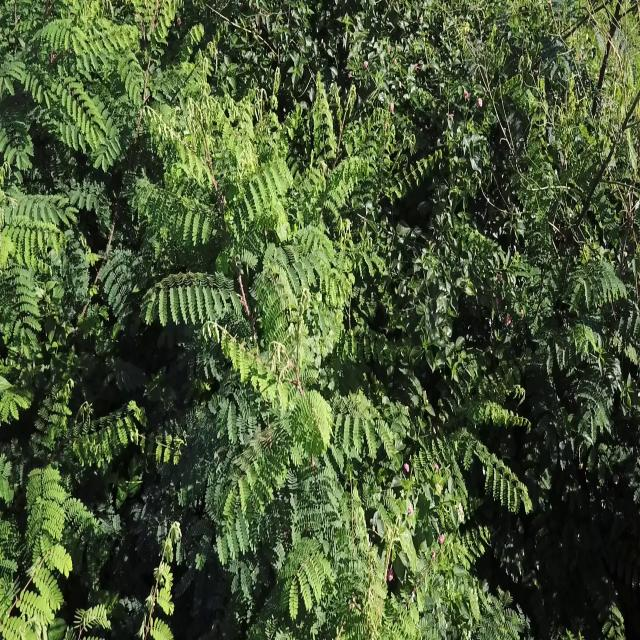Mysore-Thorn-Weed: (138, 76, 372, 540), (0, 0, 132, 360), (0, 385, 131, 640), (386, 350, 534, 562), (468, 593, 532, 640)
